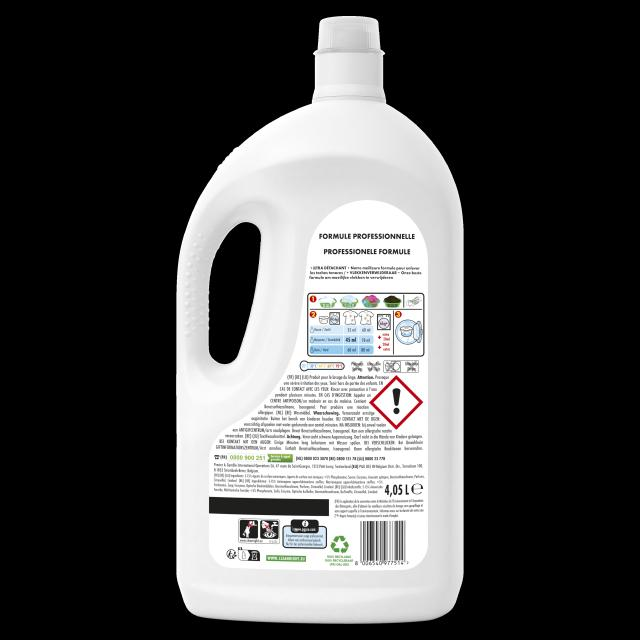GHS_Symbol_EXCLAMATION_MARK: (371, 376, 423, 430)
